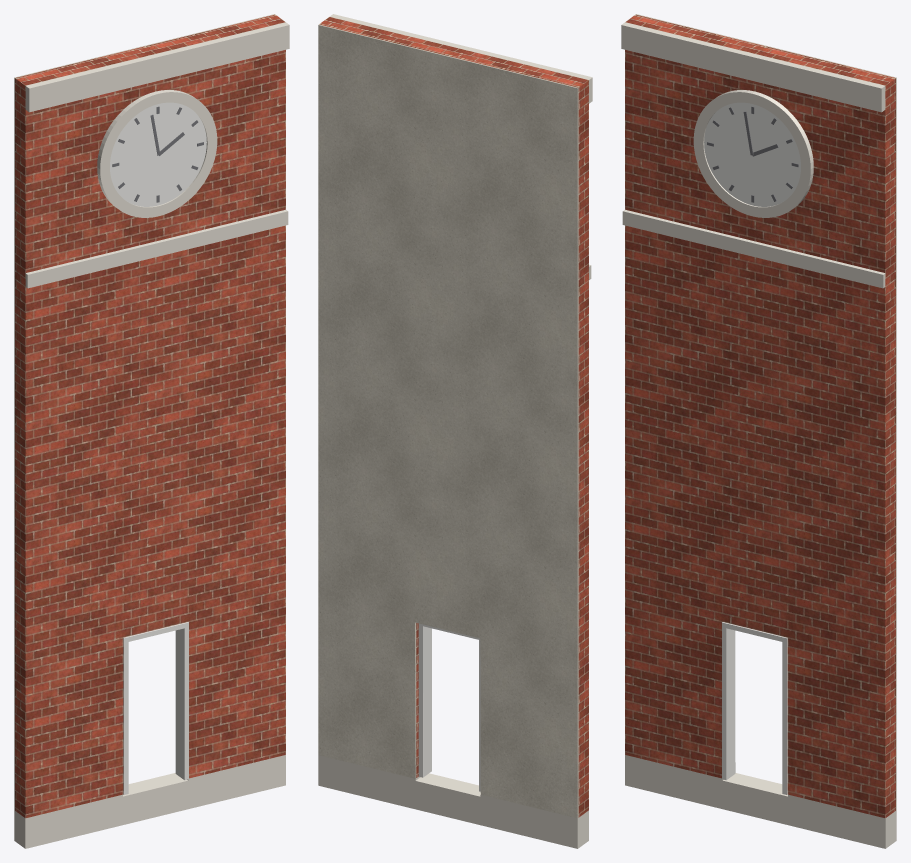
Rendered from tower_wall_east.glb.
The picture shows the model from 3 angles, left to right: view 1: azimuth 30°, elevation 25°; view 2: azimuth 150°, elevation 25°; view 3: azimuth 330°, elevation 25°; orthographic projection.
Visible parts, largest first — view 1: tower_wall_east_brick, tower_wall_east_lime, tower_wall_east_clockface, tower_wall_east_frame, tower_wall_east_plaster, tower_wall_east_dark; view 2: tower_wall_east_plaster, tower_wall_east_brick, tower_wall_east_lime, tower_wall_east_frame; view 3: tower_wall_east_brick, tower_wall_east_lime, tower_wall_east_clockface, tower_wall_east_frame, tower_wall_east_plaster, tower_wall_east_dark.
Boxes of the visible parts, x1,y1,x2,y2 form: tower_wall_east_brick: [15, 14, 285, 818]; tower_wall_east_lime: [14, 22, 289, 848]; tower_wall_east_clockface: [110, 102, 206, 206]; tower_wall_east_frame: [123, 622, 188, 794]; tower_wall_east_plaster: [14, 14, 274, 810]; tower_wall_east_dark: [112, 106, 203, 202]; tower_wall_east_plaster: [318, 24, 578, 818]; tower_wall_east_brick: [319, 17, 588, 817]; tower_wall_east_lime: [318, 14, 592, 848]; tower_wall_east_frame: [418, 623, 480, 791]; tower_wall_east_brick: [625, 14, 895, 818]; tower_wall_east_lime: [621, 22, 896, 848]; tower_wall_east_clockface: [704, 102, 800, 206]; tower_wall_east_frame: [722, 622, 787, 794]; tower_wall_east_plaster: [636, 14, 896, 810]; tower_wall_east_dark: [707, 106, 798, 202].
Size of the model in its own units: 4 by 11.2 by 0.4.
Materials: 6 (2 with a texture image).
